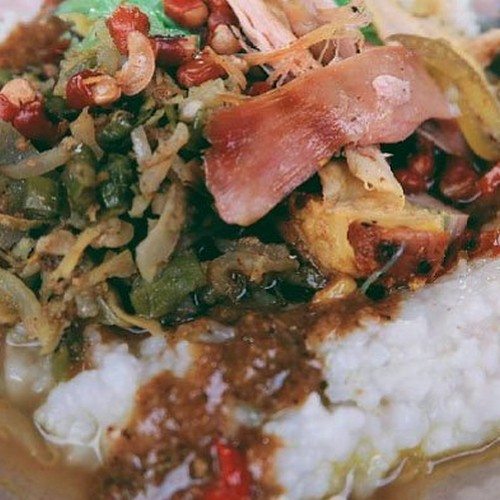nasi tepeng: (26, 22, 492, 479)
